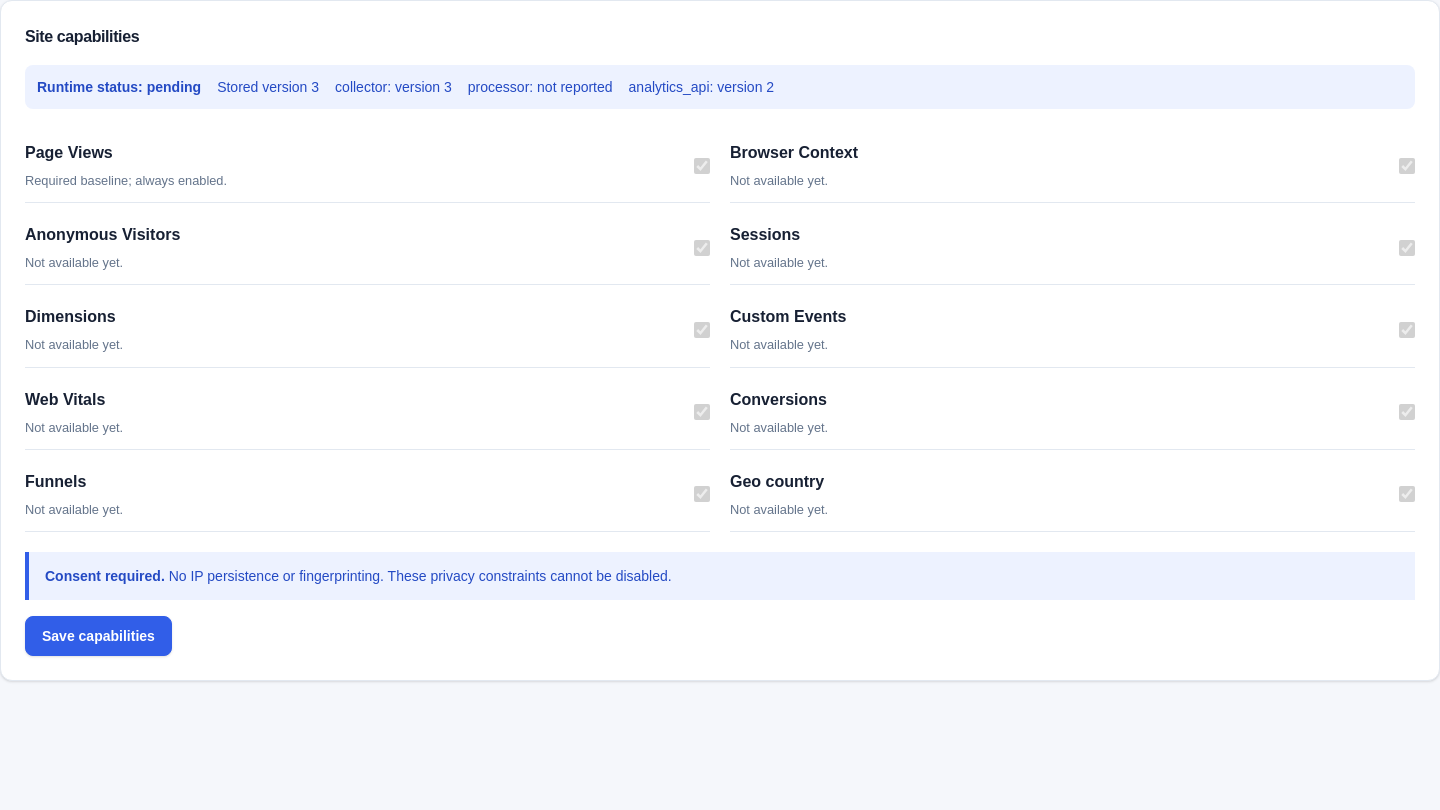
Test: ConfigurationEditor › shows the runtime state returned by a capability save for its new version
The width and height of the screenshot is (1440, 810).
Step 1. Click the button "Save capabilities" → (98, 636), box [25,616,172,656]
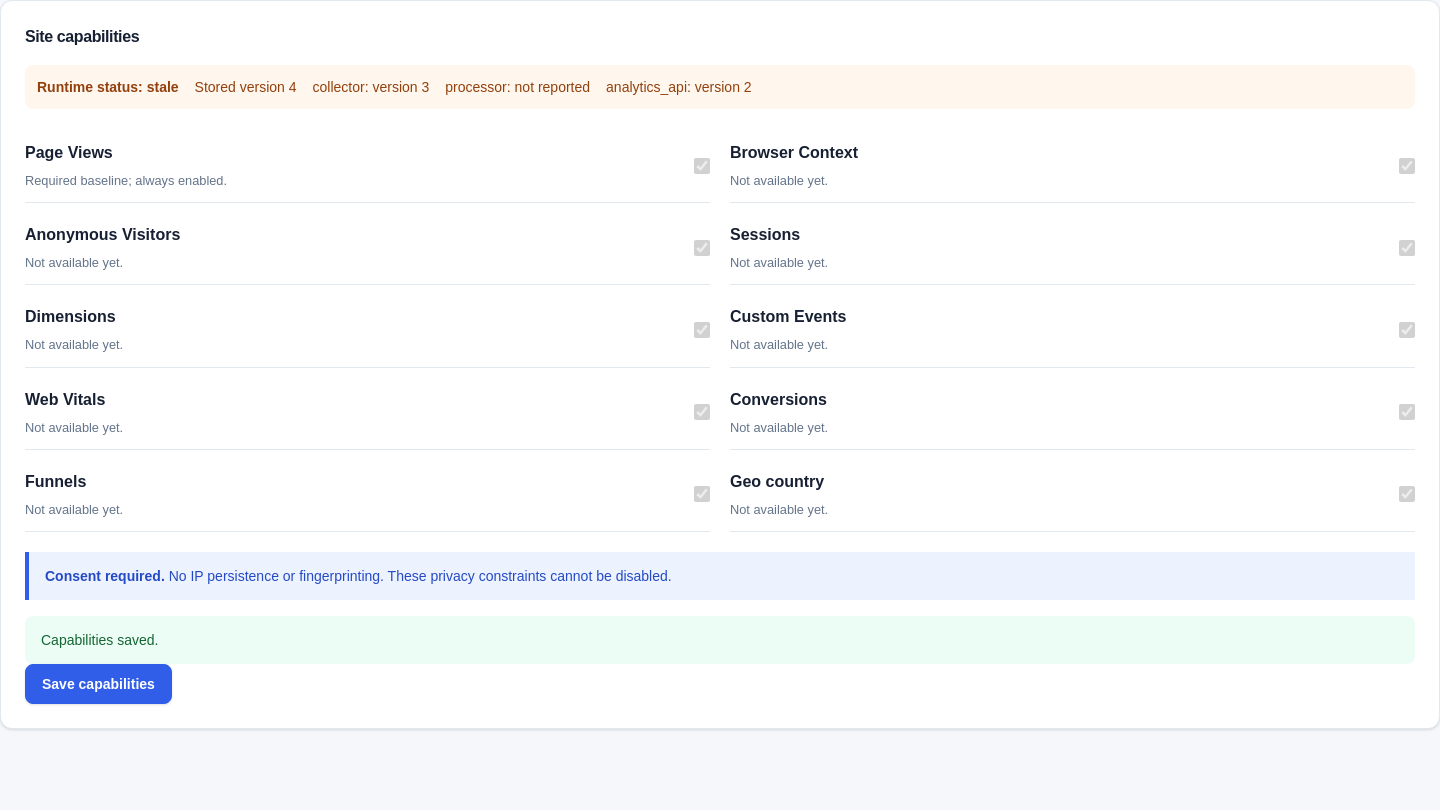
Now the text "Runtime status: stale" is shown, box [37,77,179,97]
Now the text "Stored version 4" is shown, box [195,77,297,97]
